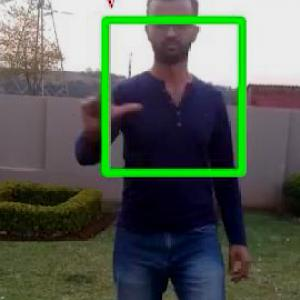land_hand: (71, 59, 147, 133)
